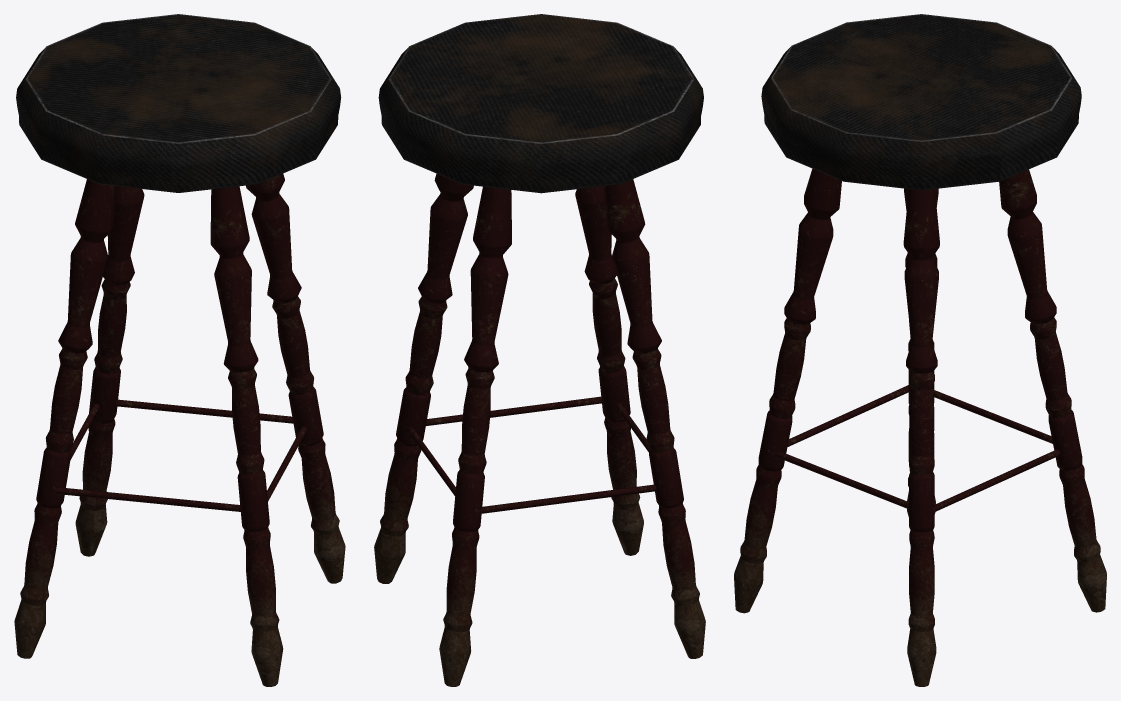
The model's file is obj_bar_stool_7609a6.glb.
The picture shows the model from 3 angles, left to right: view 1: azimuth 30°, elevation 25°; view 2: azimuth 150°, elevation 25°; view 3: azimuth 270°, elevation 25°; orthographic projection.
Parts seen in each view (by area): view 1: obj_bar_stool_7609a6; view 2: obj_bar_stool_7609a6; view 3: obj_bar_stool_7609a6.
Boxes of the visible parts, bbox=[...] form: obj_bar_stool_7609a6: bbox=[14, 14, 345, 686]; obj_bar_stool_7609a6: bbox=[374, 14, 705, 686]; obj_bar_stool_7609a6: bbox=[734, 14, 1106, 686].
Bounding box in the file's own units: 0.3127 × 0.5 × 0.315.
1 material, 1 textured.
